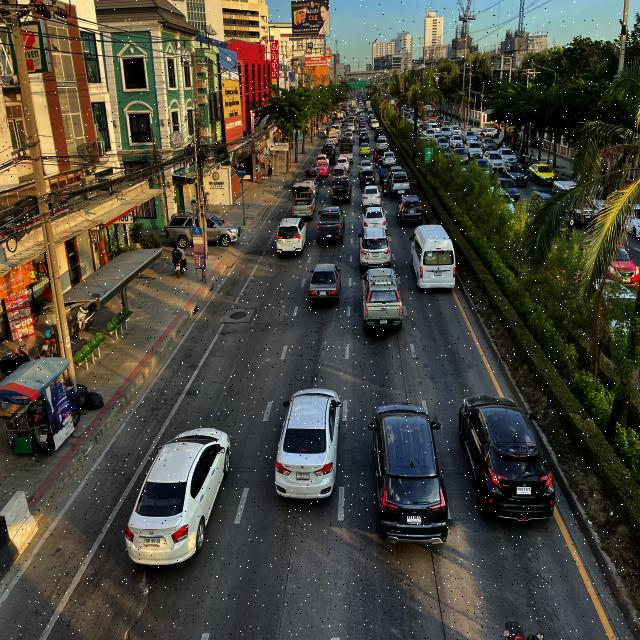truck: (288, 180, 318, 222)
